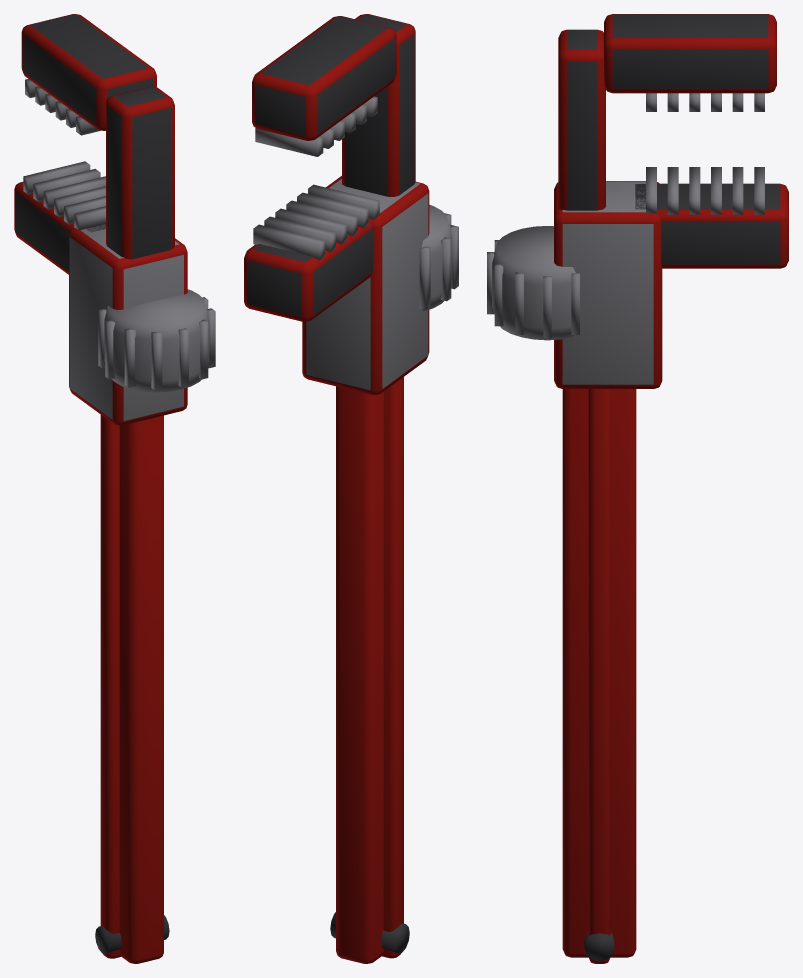
Rendered from pipe_wrench.glb.
3 views of the same model, side by side, from view 1: azimuth 30°, elevation 25°; view 2: azimuth 150°, elevation 25°; view 3: azimuth 270°, elevation 25° (orthographic). The views are drawn at different scales.
Parts seen in each view (by area): view 1: PipeWrench; view 2: PipeWrench; view 3: PipeWrench.
Part boxes in pixels (x1,y1,x2,y2): PipeWrench: [14, 14, 215, 963]; PipeWrench: [244, 14, 458, 963]; PipeWrench: [487, 14, 788, 963].
Bounding box in the file's own units: 0.056 × 0.472 × 0.1395.
